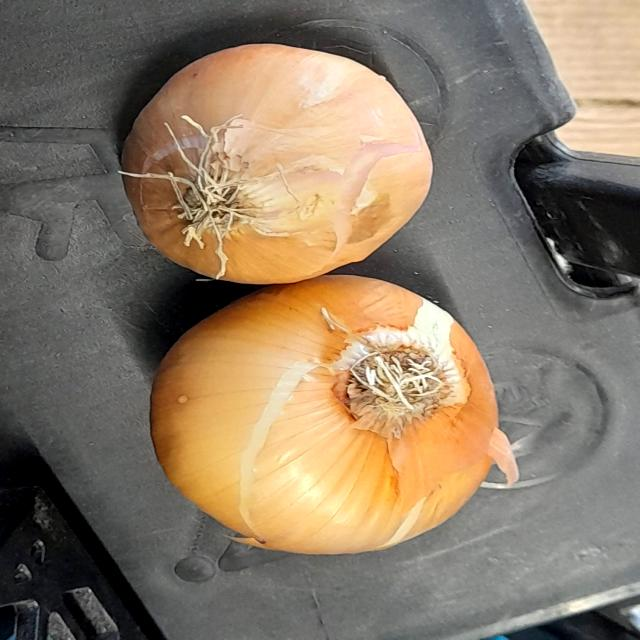onion: (120, 254, 538, 564), (104, 35, 451, 292)
